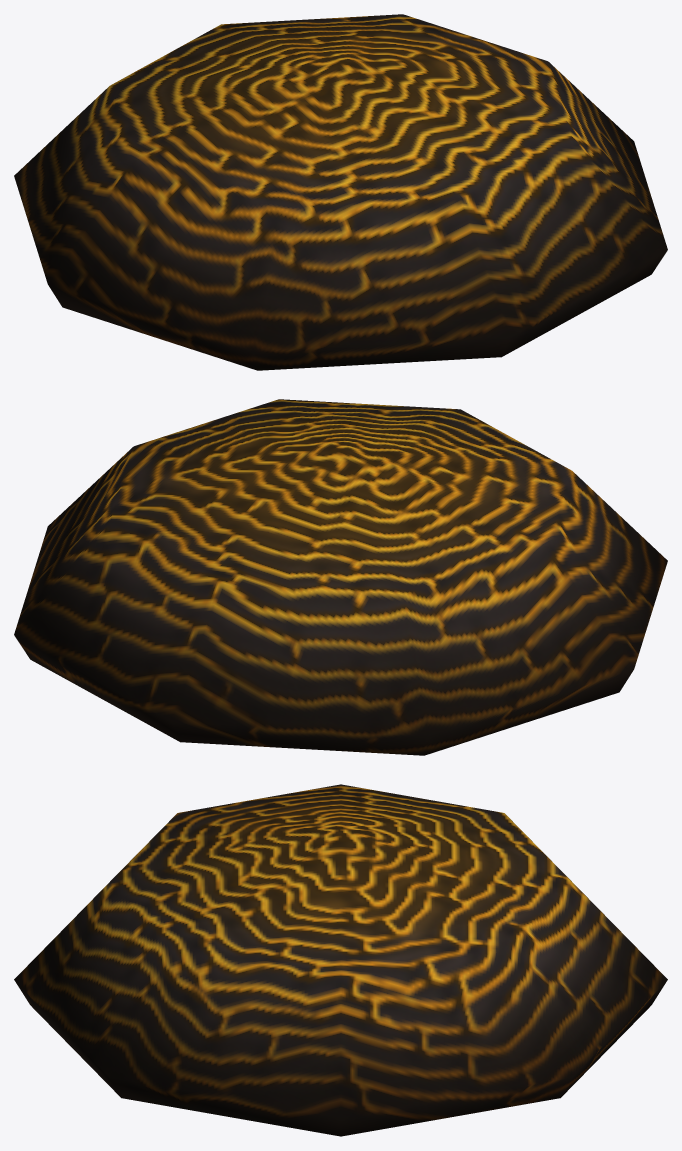
Rendered from Coral_25.FBX.
3 views of the same model, one above another, from view 1: azimuth 30°, elevation 25°; view 2: azimuth 150°, elevation 25°; view 3: azimuth 270°, elevation 25° (orthographic). The views are drawn at different scales.
Parts seen in each view (by area): view 1: Coral_25; view 2: Coral_25; view 3: Coral_25.
Boxes of the visible parts, x1,y1,x2,y2 form: Coral_25: [14, 14, 667, 370]; Coral_25: [14, 399, 667, 755]; Coral_25: [14, 784, 667, 1136].
Size of the model in its own units: 58.26 by 16.68 by 58.26.
